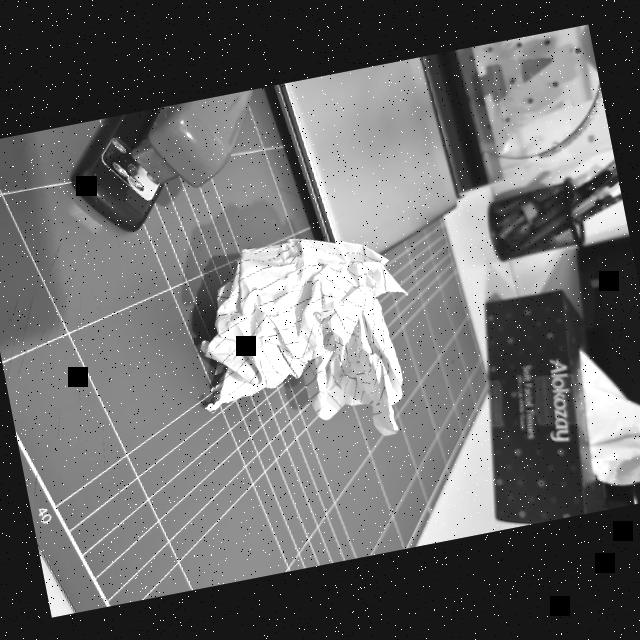scrap_paper: (180, 215, 432, 468)
